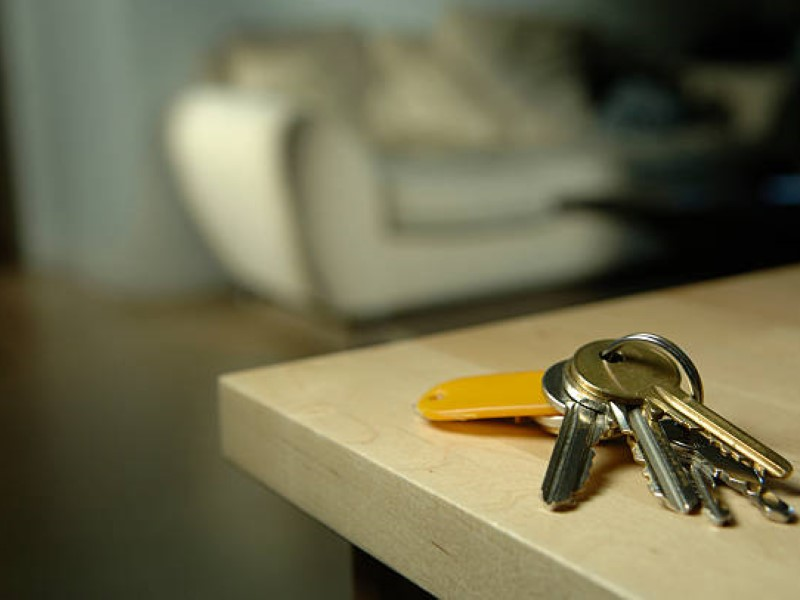key: (539, 322, 798, 529)
